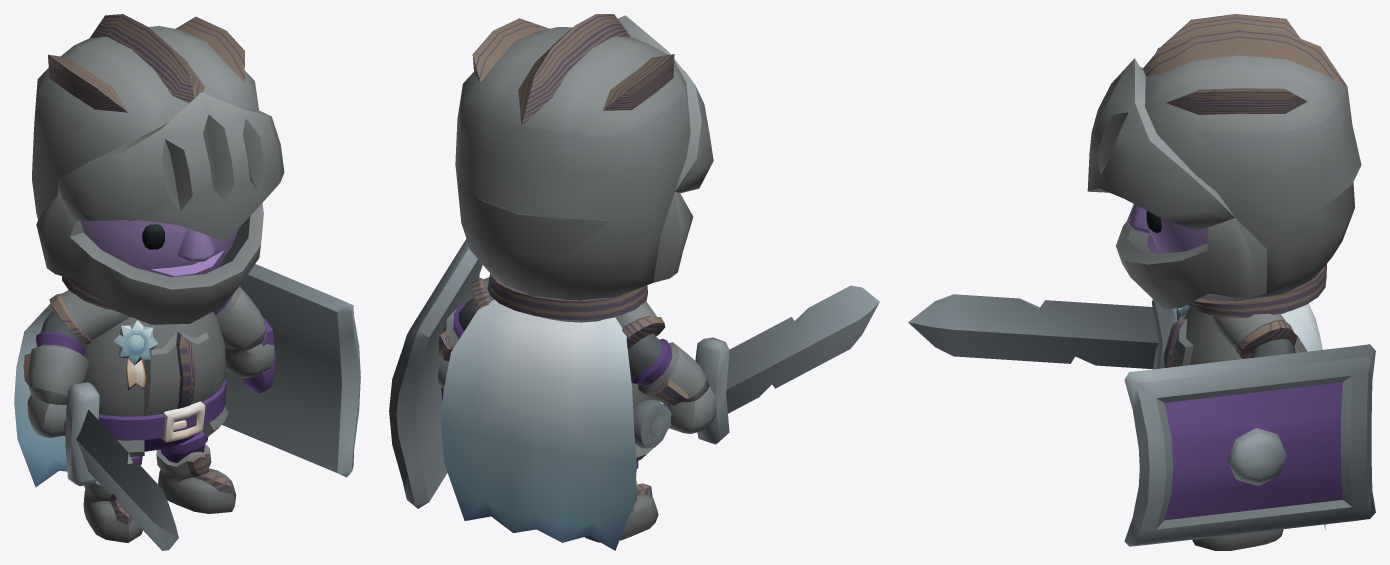
The picture shows the model from 3 angles, left to right: view 1: azimuth 30°, elevation 25°; view 2: azimuth 150°, elevation 25°; view 3: azimuth 270°, elevation 25°; orthographic projection. The views are drawn at different scales.
Parts seen in each view (by area): view 1: Knight_Helmet, Rectangle_Shield, Knight_Body, 1H_Sword, Knight_ArmRight, Knight_Head, Knight_LegLeft, Knight_ArmLeft, Knight_Cape, Knight_LegRight; view 2: Knight_Helmet, Knight_Cape, 1H_Sword, Rectangle_Shield, Knight_ArmRight, Knight_Body, Knight_ArmLeft, Knight_LegRight; view 3: Knight_Helmet, Rectangle_Shield, 1H_Sword, Knight_Body, Knight_ArmLeft, Knight_Head, Knight_LegLeft, Knight_Cape.
Boxes of the visible parts, <box> form: Knight_Helmet: <box>32,14,284,324</box>; Rectangle_Shield: <box>222,264,360,477</box>; Knight_Body: <box>62,276,228,456</box>; 1H_Sword: <box>64,382,178,550</box>; Knight_ArmRight: <box>23,290,128,437</box>; Knight_Head: <box>80,219,238,276</box>; Knight_LegLeft: <box>156,431,236,513</box>; Knight_ArmLeft: <box>213,286,274,378</box>; Knight_Cape: <box>14,304,67,487</box>; Knight_LegRight: <box>83,456,142,542</box>; Knight_Helmet: <box>455,14,713,300</box>; Knight_Cape: <box>441,299,636,550</box>; 1H_Sword: <box>633,285,879,448</box>; Rectangle_Shield: <box>389,239,482,508</box>; Knight_ArmRight: <box>615,301,716,433</box>; Knight_Body: <box>487,273,655,460</box>; Knight_ArmLeft: <box>438,277,493,388</box>; Knight_LegRight: <box>585,461,658,542</box>; Knight_Helmet: <box>1087,14,1361,309</box>; Rectangle_Shield: <box>1124,344,1375,546</box>; 1H_Sword: <box>908,294,1177,369</box>; Knight_Body: <box>1163,264,1326,367</box>; Knight_ArmLeft: <box>1212,313,1297,358</box>; Knight_Head: <box>1127,204,1208,254</box>; Knight_LegLeft: <box>1192,529,1283,550</box>; Knight_Cape: <box>1281,303,1325,529</box>.
Bounding box in the file's own units: 1.38 × 2.1 × 1.83.
